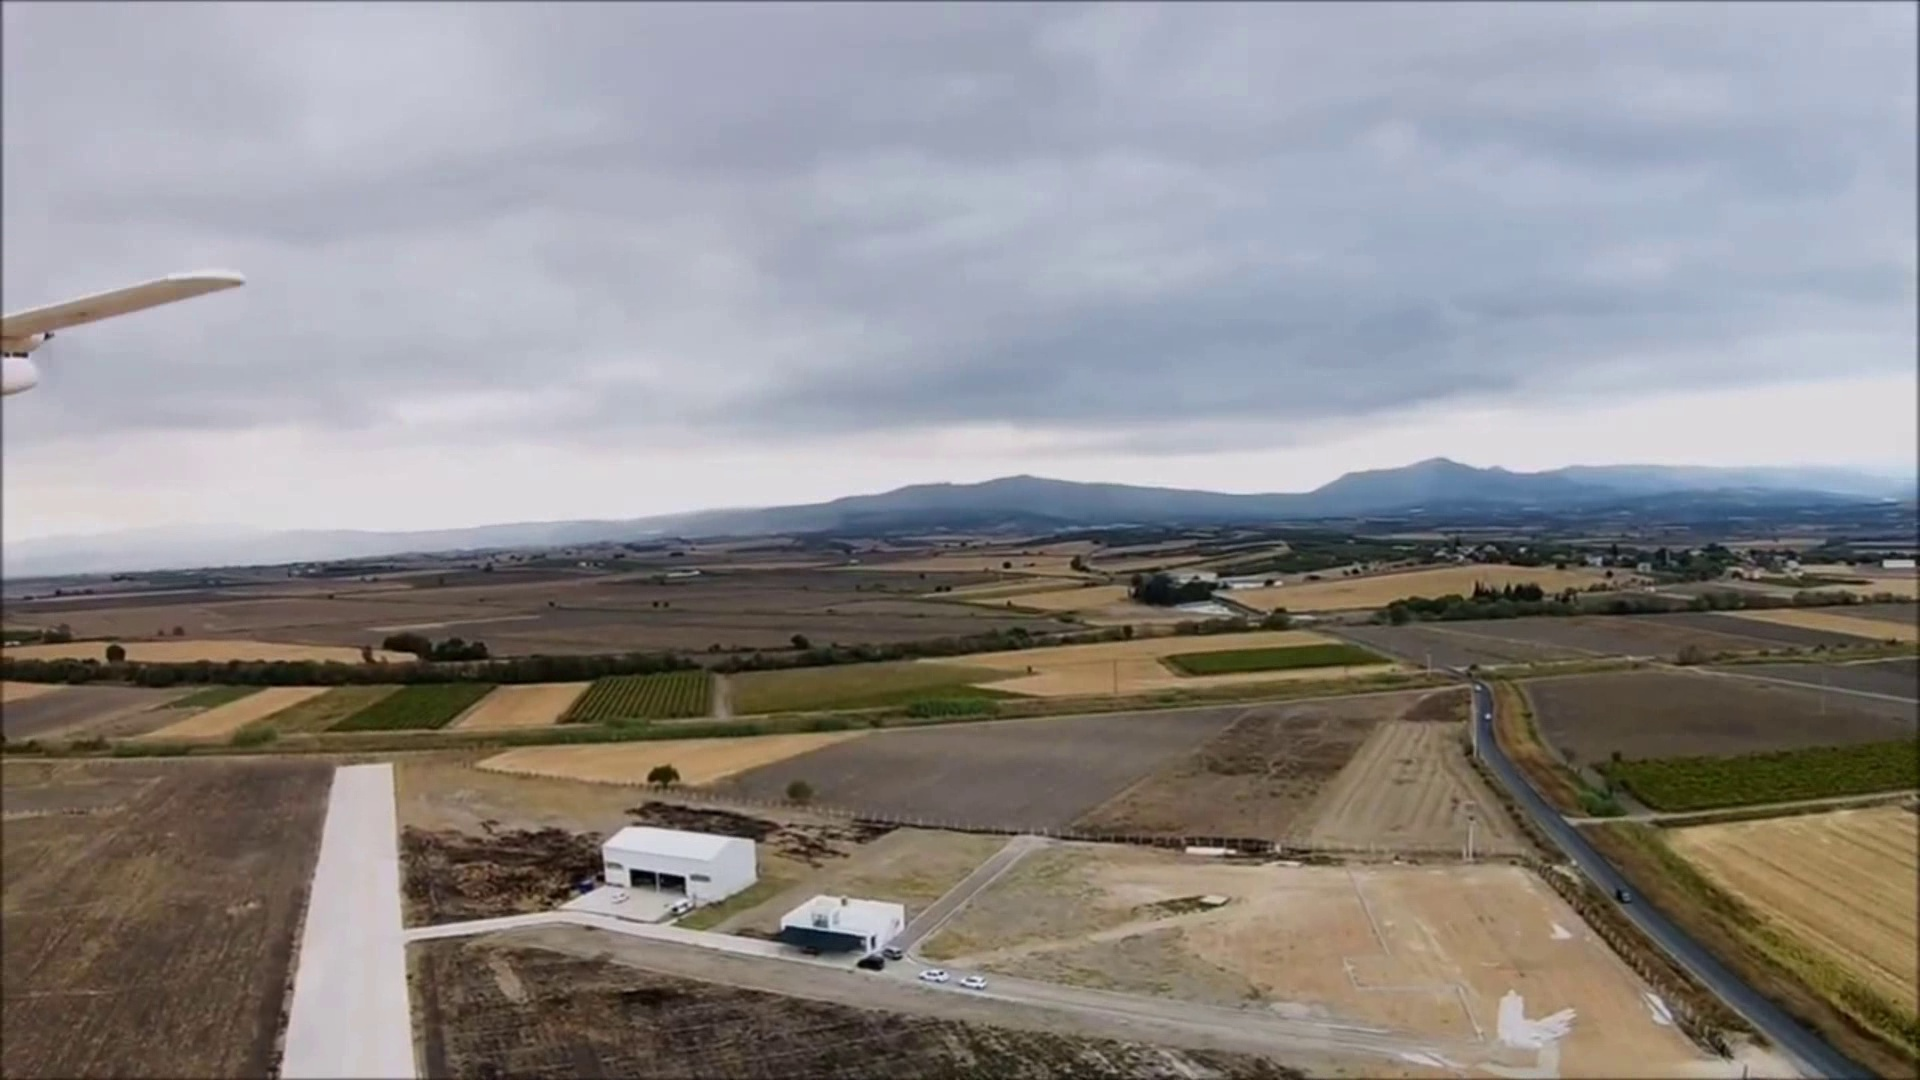airplane: (0, 272, 244, 396)
